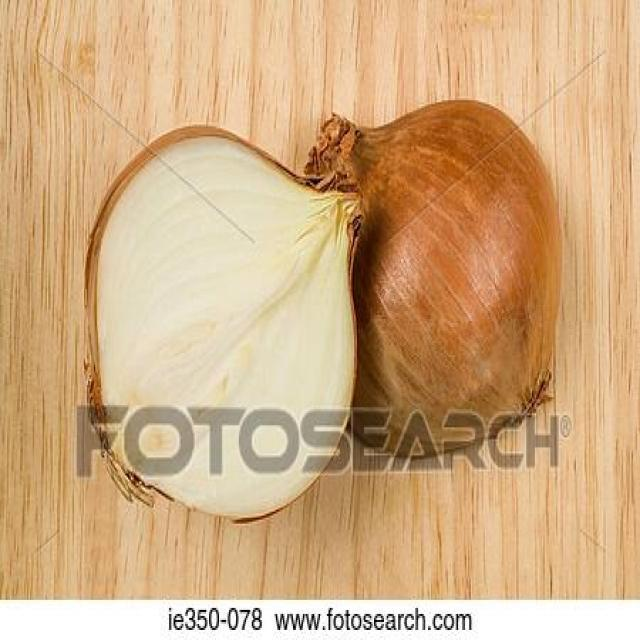onion: (82, 126, 363, 524), (306, 99, 561, 458)
